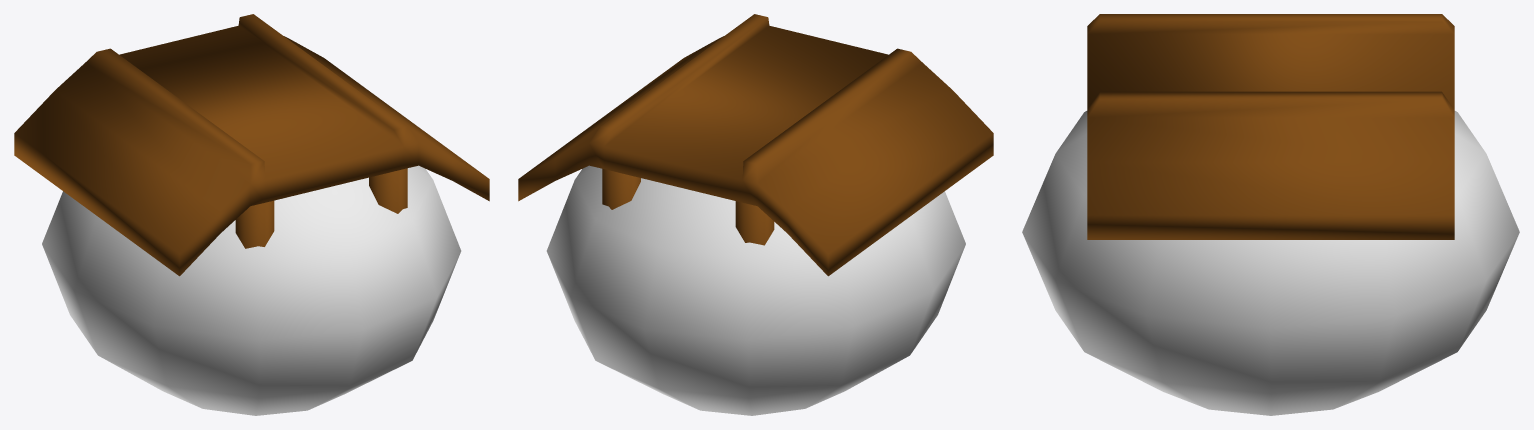
Rendered from CloudCarrier.glb.
3 views of the same model, side by side, from view 1: azimuth 30°, elevation 25°; view 2: azimuth 150°, elevation 25°; view 3: azimuth 270°, elevation 25° (orthographic). The views are drawn at different scales.
Parts seen in each view (by area): view 1: CloudCarrier; view 2: CloudCarrier; view 3: CloudCarrier.
Part boxes in pixels (box(x1,y1,x2,y2)): CloudCarrier: box(14, 14, 489, 415); CloudCarrier: box(518, 14, 993, 415); CloudCarrier: box(1022, 14, 1519, 415).
Size of the model in its own units: 14.87 by 11.98 by 16.25.
